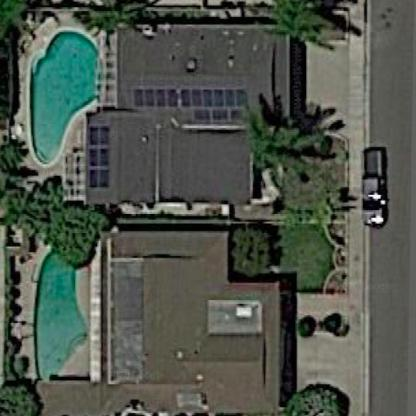car: (350, 147, 391, 233)
solar_panel: (127, 80, 256, 126), (83, 122, 114, 192)
swimming_pool: (27, 224, 106, 386), (25, 20, 108, 160)
